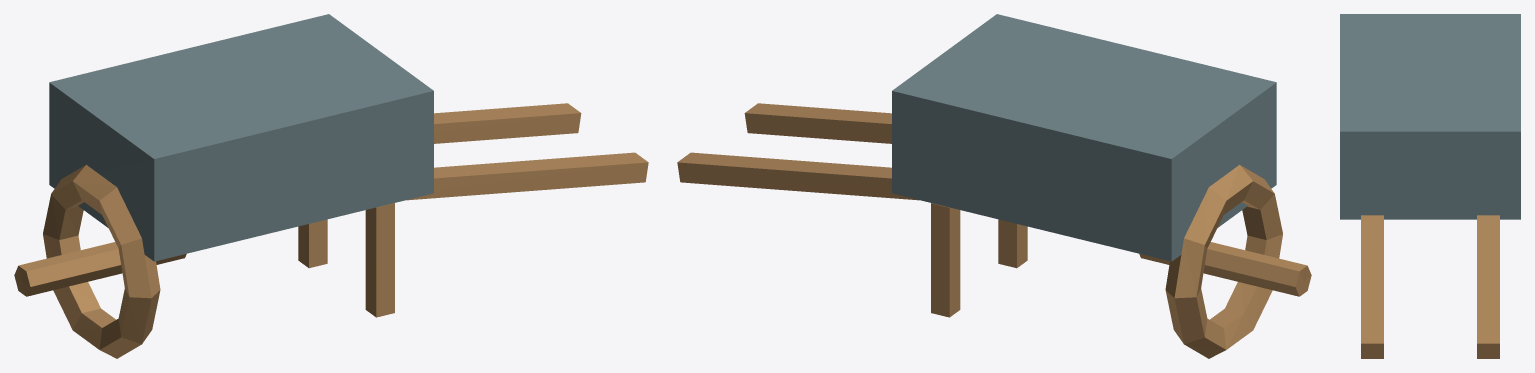
The model's file is wheelbarrow.source.glb.
3 renders of one model, left to right at view 1: azimuth 30°, elevation 25°; view 2: azimuth 150°, elevation 25°; view 3: azimuth 270°, elevation 25°, orthographic. The views are drawn at different scales.
Visible parts, largest first — view 1: wheelbarrow-empty-faceted-tray-mesh, wheelbarrow-slender-timber-handle-mesh (×2), wheelbarrow-single-wheel-mesh, wheelbarrow-support-leg-mesh (×2), wheelbarrow-wheel-axle-mesh; view 2: wheelbarrow-empty-faceted-tray-mesh, wheelbarrow-slender-timber-handle-mesh (×2), wheelbarrow-single-wheel-mesh, wheelbarrow-support-leg-mesh (×2), wheelbarrow-wheel-axle-mesh; view 3: wheelbarrow-empty-faceted-tray-mesh, wheelbarrow-slender-timber-handle-mesh (×2).
Part boxes in pixels (x1,y1,x2,y2): wheelbarrow-empty-faceted-tray-mesh: [49, 14, 433, 261]; wheelbarrow-slender-timber-handle-mesh (×2): [406, 103, 648, 200]; wheelbarrow-single-wheel-mesh: [43, 164, 160, 358]; wheelbarrow-support-leg-mesh (×2): [298, 203, 394, 317]; wheelbarrow-wheel-axle-mesh: [14, 242, 186, 296]; wheelbarrow-empty-faceted-tray-mesh: [892, 14, 1276, 261]; wheelbarrow-slender-timber-handle-mesh (×2): [677, 103, 919, 200]; wheelbarrow-single-wheel-mesh: [1165, 164, 1282, 358]; wheelbarrow-support-leg-mesh (×2): [931, 203, 1027, 317]; wheelbarrow-wheel-axle-mesh: [1139, 242, 1311, 296]; wheelbarrow-empty-faceted-tray-mesh: [1340, 14, 1520, 219]; wheelbarrow-slender-timber-handle-mesh (×2): [1361, 215, 1499, 358].
Size of the model in its own units: 2.51 by 0.93 by 0.78.
